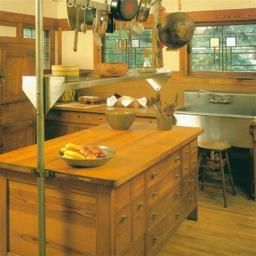Lavaplatos: (175, 86, 252, 122)
